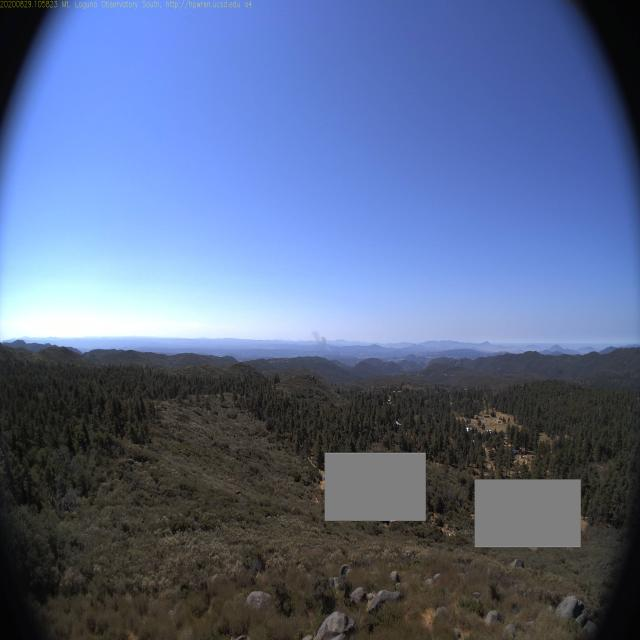smoke: (310, 319, 332, 364)
